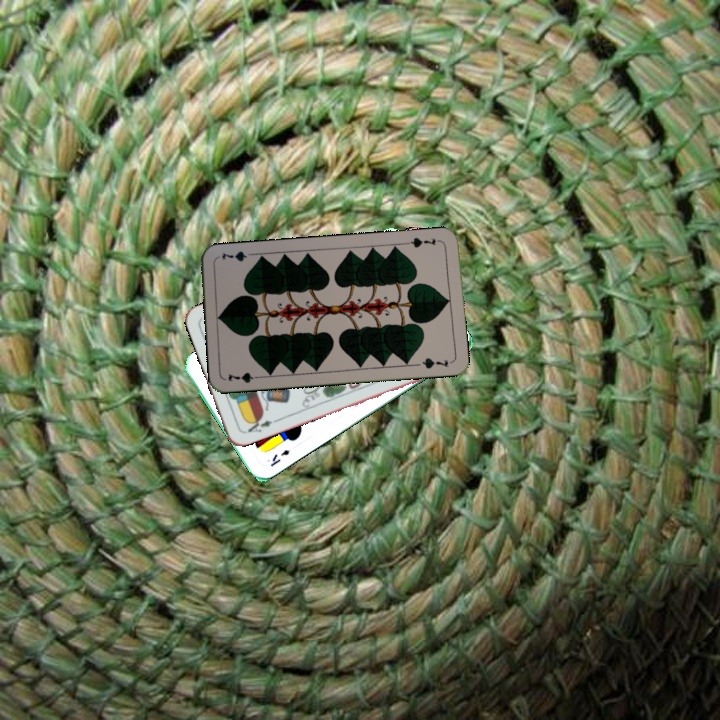EA: (240, 414, 275, 436)
EK: (266, 445, 292, 469)
G7: (224, 368, 264, 386), (403, 233, 443, 250)
